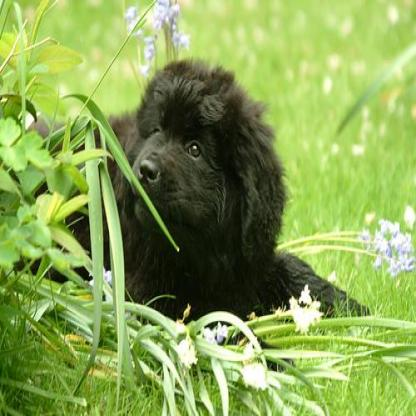Newfoundland: (11, 58, 370, 374)
